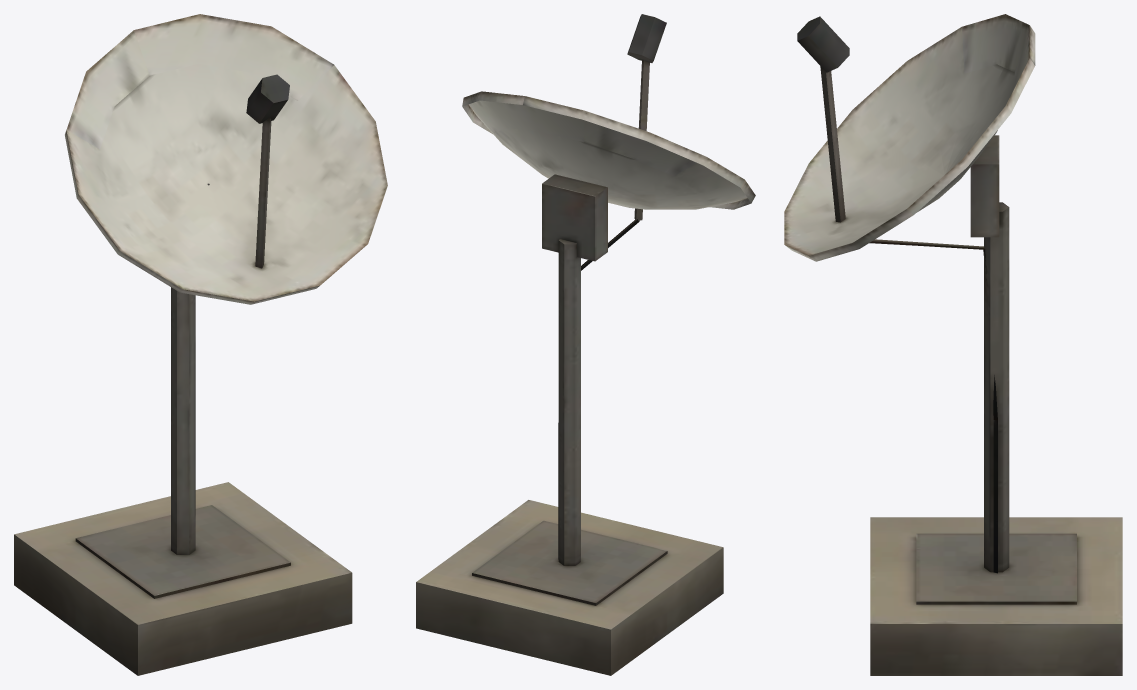
Rendered from dish.glb.
The picture shows the model from 3 angles, left to right: view 1: azimuth 30°, elevation 25°; view 2: azimuth 150°, elevation 25°; view 3: azimuth 270°, elevation 25°; orthographic projection. The views are drawn at different scales.
Parts seen in each view (by area): view 1: body; view 2: body; view 3: body.
Boxes of the visible parts, x1,y1,x2,y2 form: body: [14, 14, 387, 675]; body: [416, 14, 755, 675]; body: [784, 14, 1122, 675].
Bounding box in the file's own units: 0.61 × 1.16 × 0.5903.
1 material, 1 textured.
